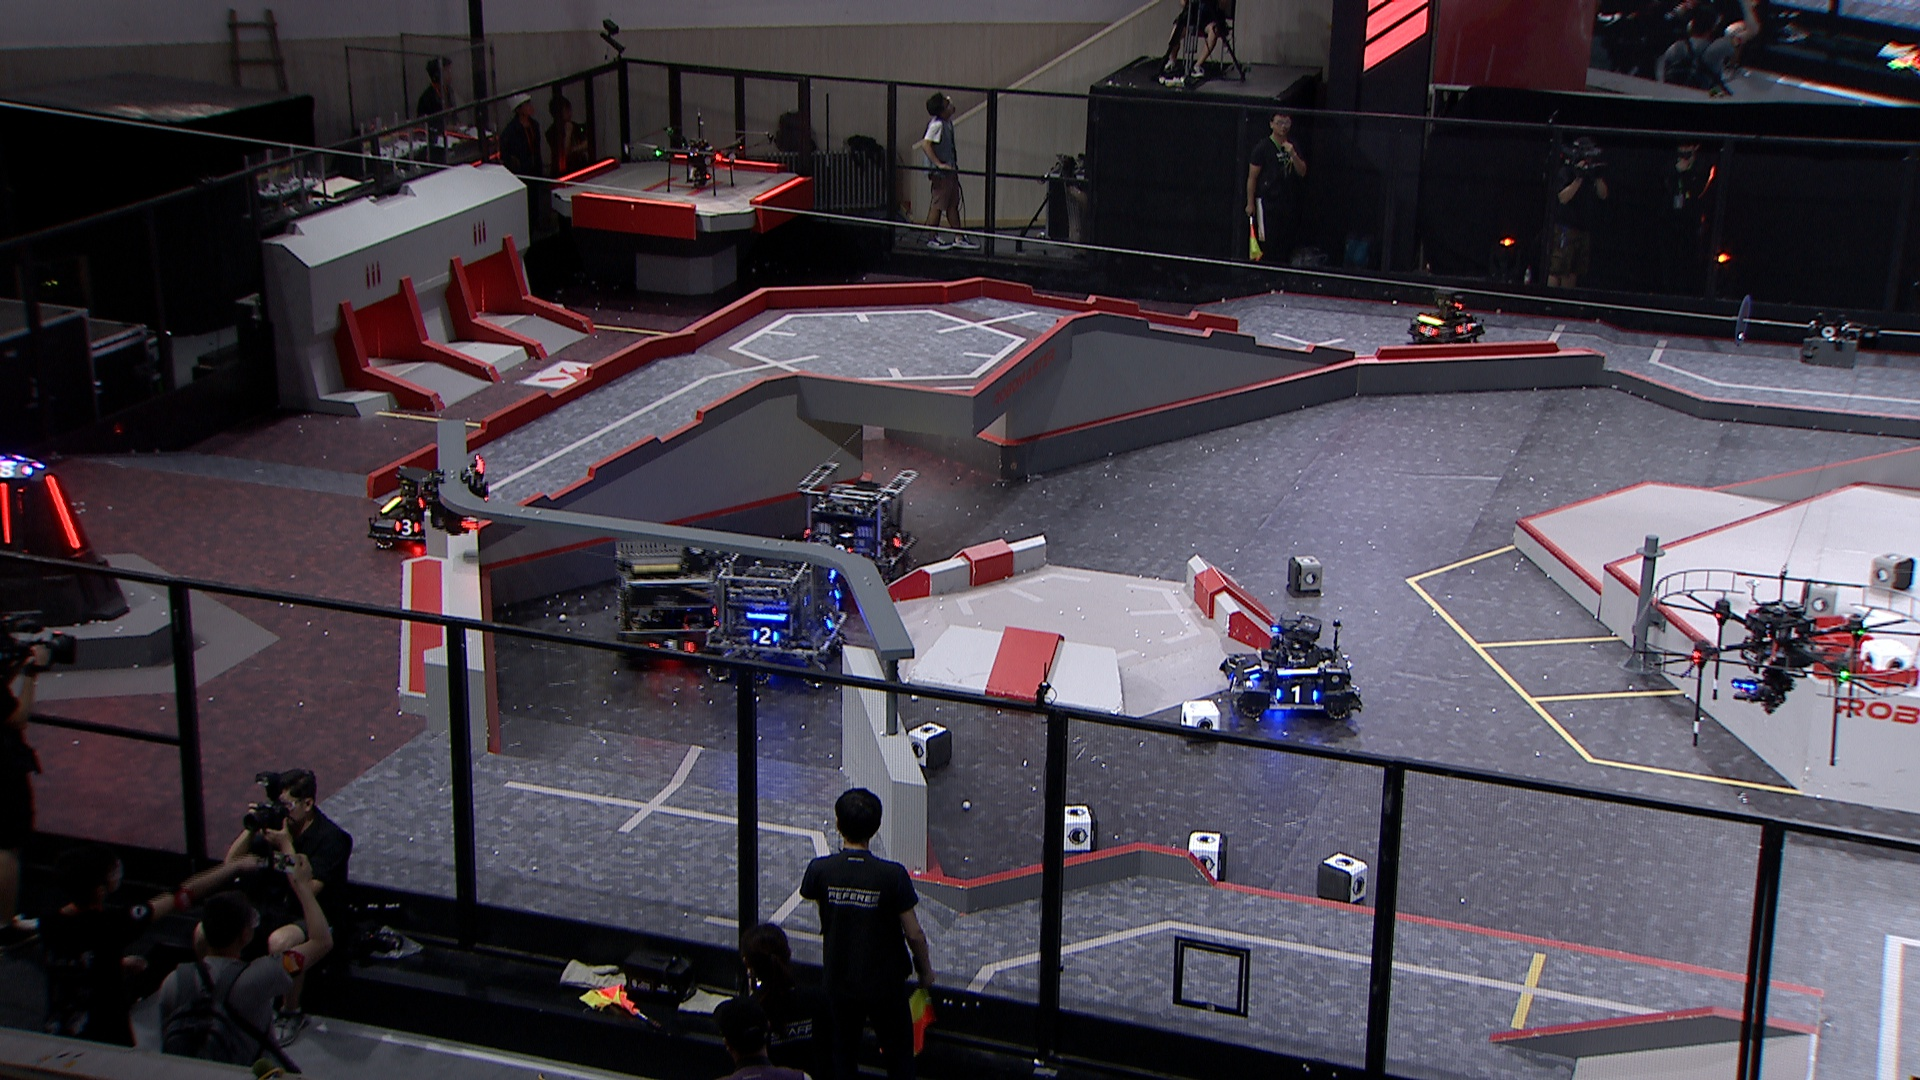armor: (44, 473, 80, 551), (647, 640, 695, 659), (0, 483, 15, 546), (1276, 684, 1319, 702), (392, 518, 422, 537), (750, 624, 778, 642), (1222, 670, 1242, 694), (823, 611, 840, 632), (1415, 322, 1437, 338), (1244, 659, 1261, 679), (831, 542, 851, 555), (891, 531, 903, 551), (1455, 323, 1474, 334)
car: (700, 537, 855, 694), (605, 520, 741, 669), (787, 458, 922, 597), (1218, 612, 1361, 721), (365, 462, 455, 555), (1400, 287, 1484, 351)
watcher: (409, 460, 495, 537)
